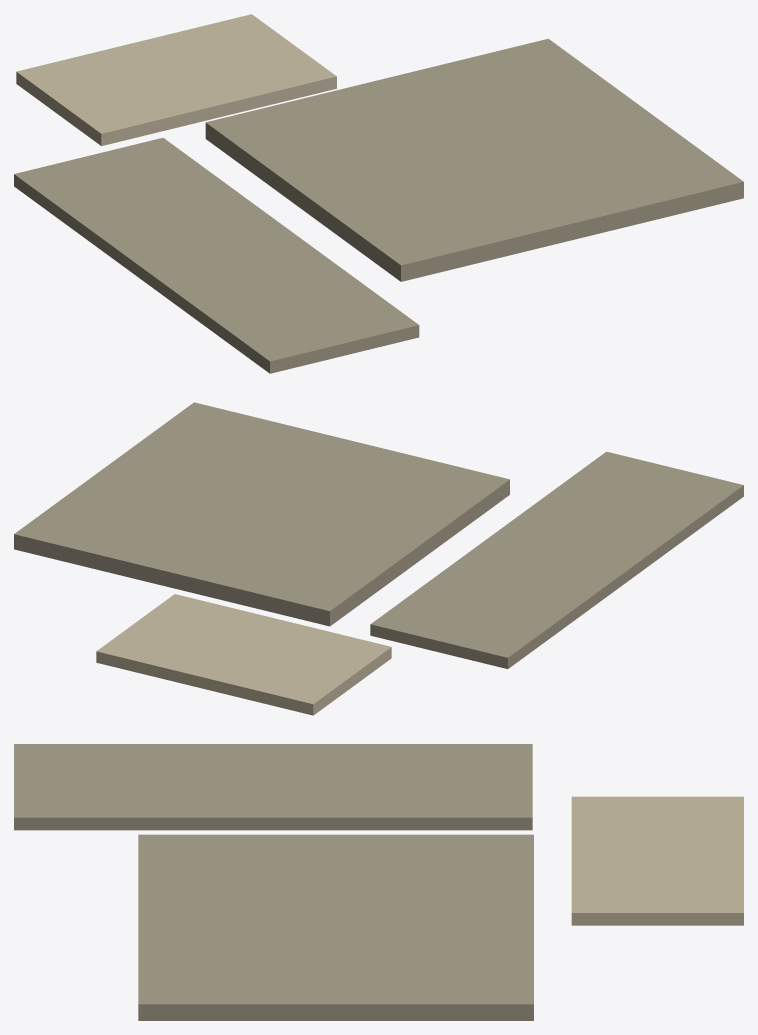
File: fbx_pebbles03.fbx
3 views of the same model, one above another, from view 1: azimuth 30°, elevation 25°; view 2: azimuth 150°, elevation 25°; view 3: azimuth 270°, elevation 25° (orthographic). The views are drawn at different scales.
Parts seen in each view (by area): view 1: sm_pebbles03; view 2: sm_pebbles03; view 3: sm_pebbles03.
Boxes of the visible parts, x1,y1,x2,y2 form: sm_pebbles03: (14, 14, 743, 373); sm_pebbles03: (14, 402, 743, 715); sm_pebbles03: (14, 744, 743, 1020).
Size of the model in its own units: 41.56 by 1.23 by 48.47.
